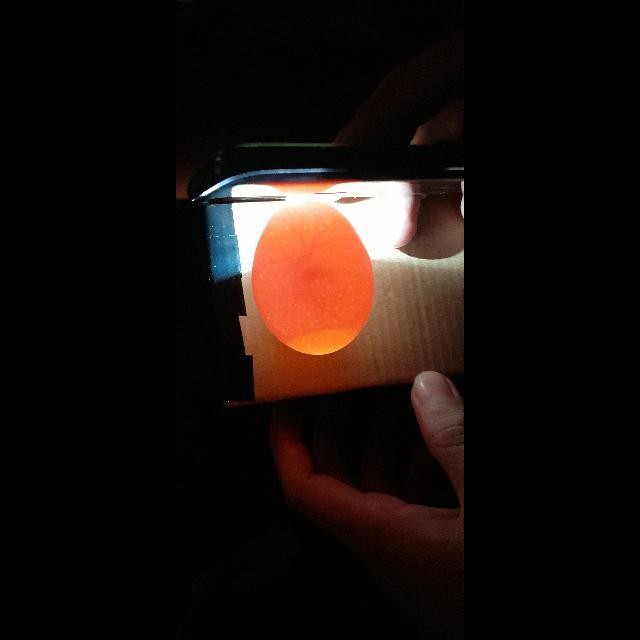Fertile: (249, 197, 381, 361)
